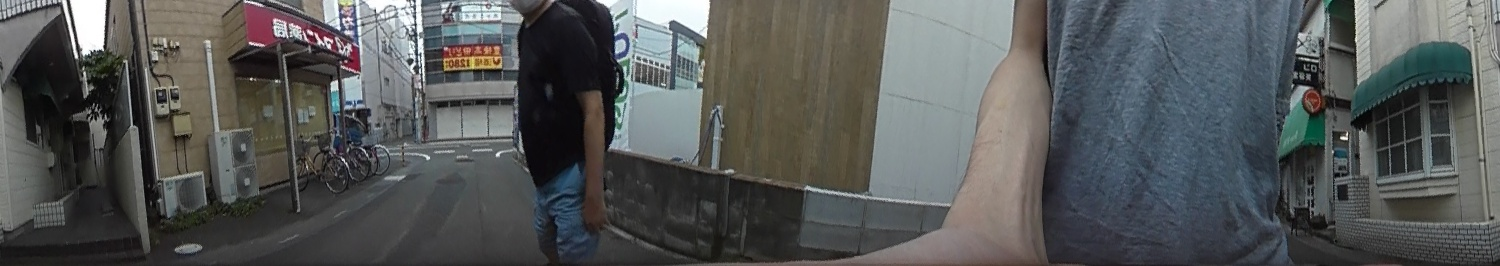person: (505, 0, 621, 266)
